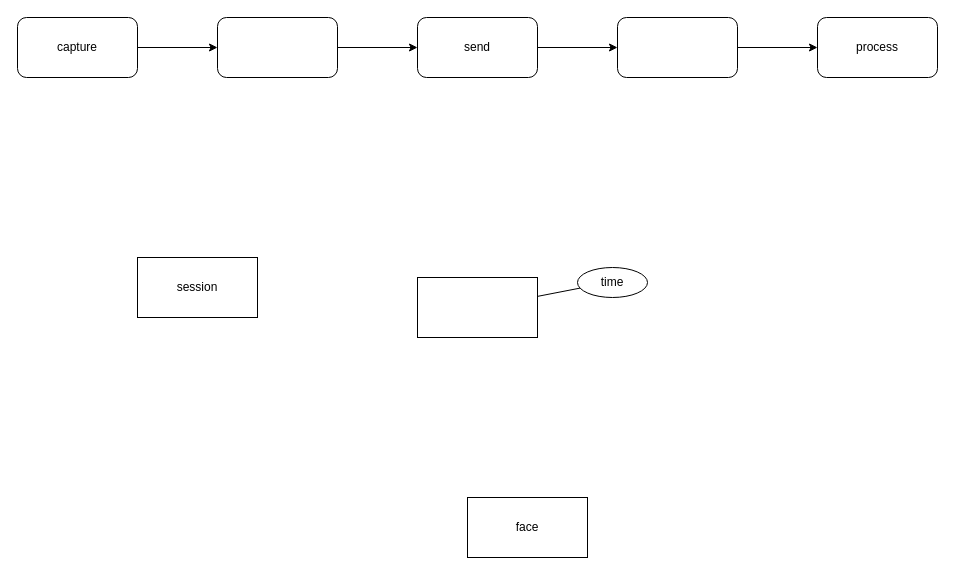
The diagram is 955 pixels wide and 575 high, and some of its shapes have lost their labels. Here are the shapes that lost their labels. From the top down, the centre of each, then its label:
(x=277, y=47): pre-process
(x=677, y=47): store
(x=477, y=307): photo
